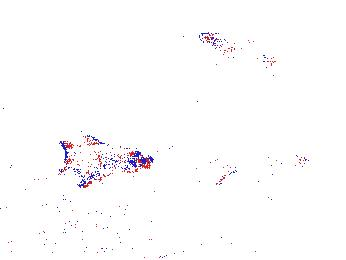redtail glassfish: (198, 31, 286, 80), (60, 138, 158, 179), (213, 148, 313, 185)
